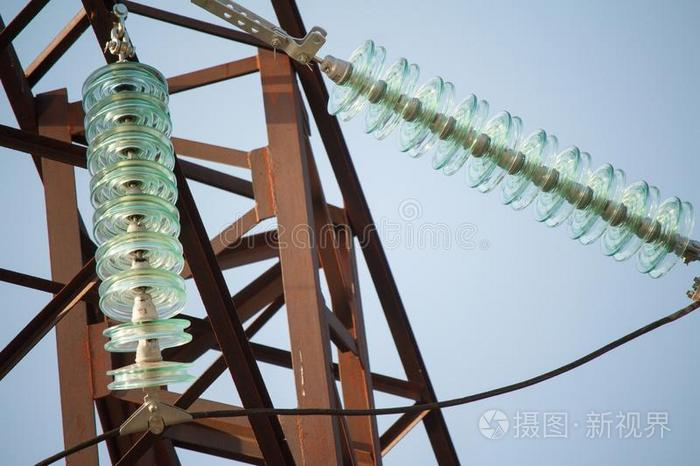insulator: (328, 40, 693, 281), (79, 65, 199, 387)
